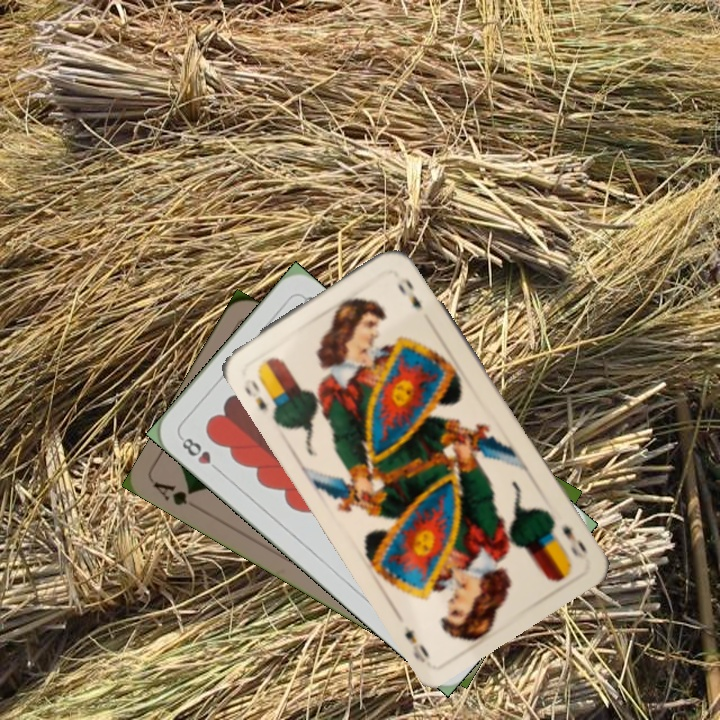EO: (557, 521, 591, 563), (240, 375, 271, 414)
GA: (150, 478, 197, 508)
H8: (176, 432, 224, 476)
